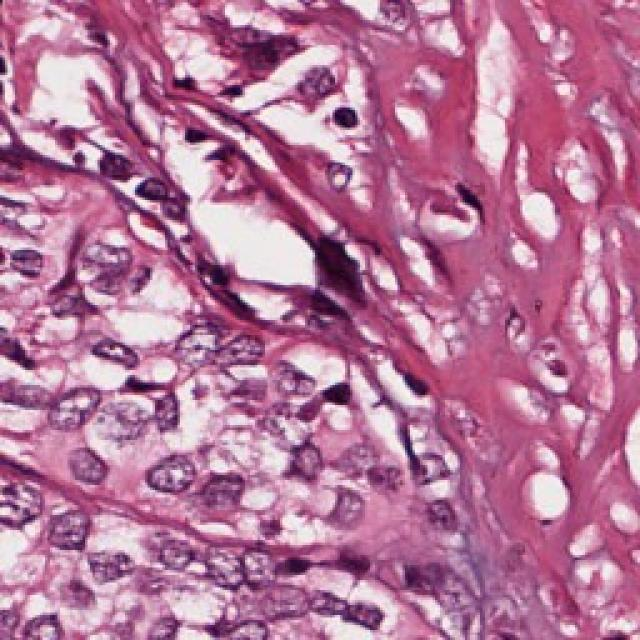abnormal: (210, 320, 303, 413), (25, 490, 113, 582), (32, 373, 125, 450), (135, 433, 220, 515), (188, 525, 255, 612), (171, 319, 241, 389), (145, 525, 202, 597), (404, 545, 468, 602), (244, 541, 279, 611)
